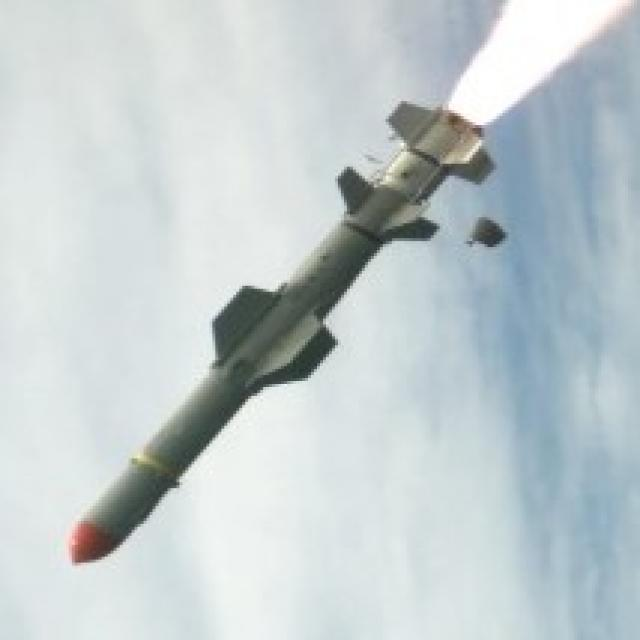missile: (57, 96, 496, 573)
